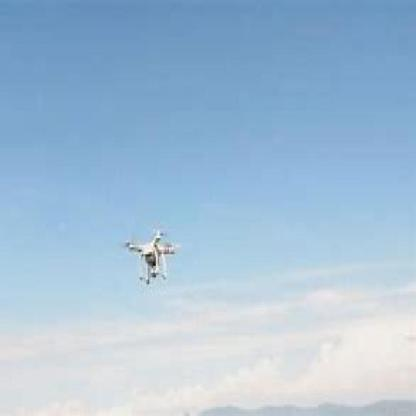drone: (124, 226, 183, 295)
